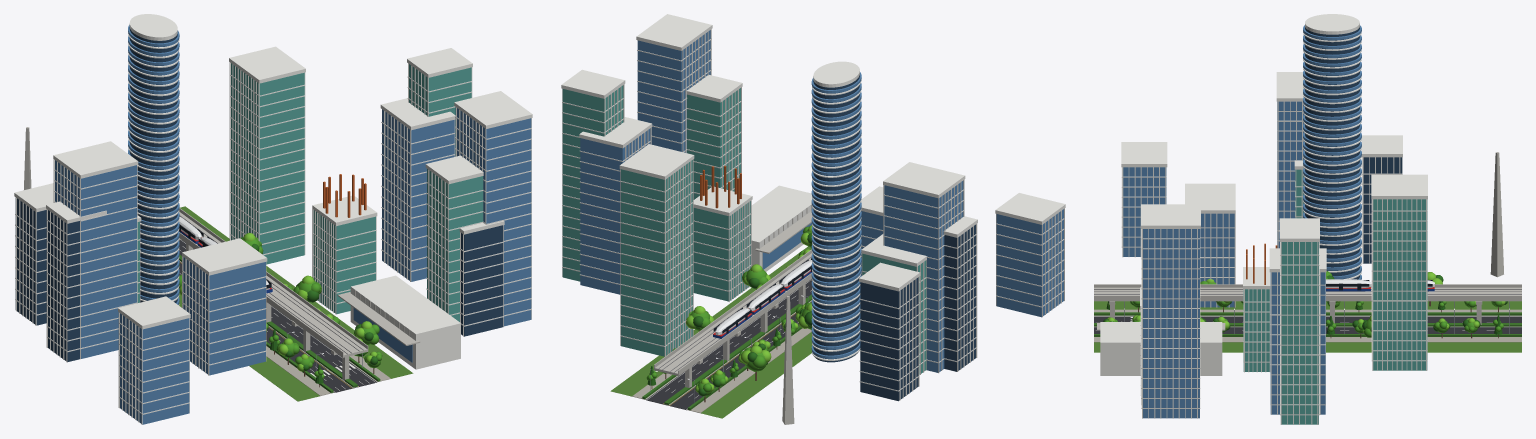
File: city_block.glb
The picture shows the model from 3 angles, left to right: view 1: azimuth 30°, elevation 25°; view 2: azimuth 150°, elevation 25°; view 3: azimuth 270°, elevation 25°; orthographic projection. The views are drawn at different scales.
Parts seen in each view (by area): view 1: office_right_glass, bg_3_glass, bg_6_glass, glass_left_glass, bg_0_glass, bg_9_glass, res_tower_rail, res_tower_core, mall_body, bg_2_glass, bg_4_glass, round_glass_glass (+46 smaller); view 2: office_right_glass, res_tower_rail, res_tower_core, bg_0_glass, bg_3_glass, bg_1_glass, bg_9_glass, bg_6_glass, bg_8_glass, round_glass_glass, bg_2_glass, res_tower_band (+46 smaller); view 3: bg_6_glass, office_right_glass, res_tower_core, bg_8_glass, res_tower_rail, res_tower_band, mall_body, office_right_fin1, bg_6_fin1, deck, bg_3_glass, bg_9_glass (+38 smaller).
Boxes of the visible parts, box(x1,y1,x2,y2) form: office_right_glass: box(231, 63, 304, 264); bg_3_glass: box(55, 160, 136, 358); bg_6_glass: box(455, 107, 531, 326); glass_left_glass: box(183, 257, 265, 375); bg_0_glass: box(382, 109, 454, 281); bg_9_glass: box(120, 313, 189, 424); res_tower_rail: box(128, 25, 179, 304); res_tower_core: box(129, 27, 177, 302); mall_body: box(350, 275, 460, 369); bg_2_glass: box(427, 169, 483, 321); bg_4_glass: box(461, 225, 503, 336); round_glass_glass: box(313, 210, 375, 314); office_right_glass: box(621, 160, 692, 356); res_tower_rail: box(811, 72, 861, 358); res_tower_core: box(813, 75, 859, 362); bg_0_glass: box(580, 128, 650, 294); bg_3_glass: box(884, 181, 963, 372); bg_1_glass: box(860, 277, 918, 401); bg_9_glass: box(996, 209, 1063, 317); bg_6_glass: box(637, 30, 710, 152); bg_8_glass: box(562, 85, 623, 281); round_glass_glass: box(693, 201, 750, 301); bg_2_glass: box(687, 88, 740, 199); res_tower_band: box(812, 79, 861, 360); bg_6_glass: box(1143, 229, 1199, 418); office_right_glass: box(1373, 199, 1427, 370); res_tower_core: box(1305, 27, 1359, 279); bg_8_glass: box(1281, 242, 1318, 424); res_tower_rail: box(1303, 25, 1361, 279); res_tower_band: box(1303, 32, 1361, 279); mall_body: box(1100, 322, 1222, 375); office_right_fin1: box(1372, 199, 1426, 370); bg_6_fin1: box(1142, 229, 1197, 418); deck: box(1094, 287, 1521, 301); bg_3_glass: box(1277, 101, 1303, 248); bg_9_glass: box(1123, 167, 1166, 256).
Size of what is drawn, in the model's own units: 147 by 97.3 by 140.
